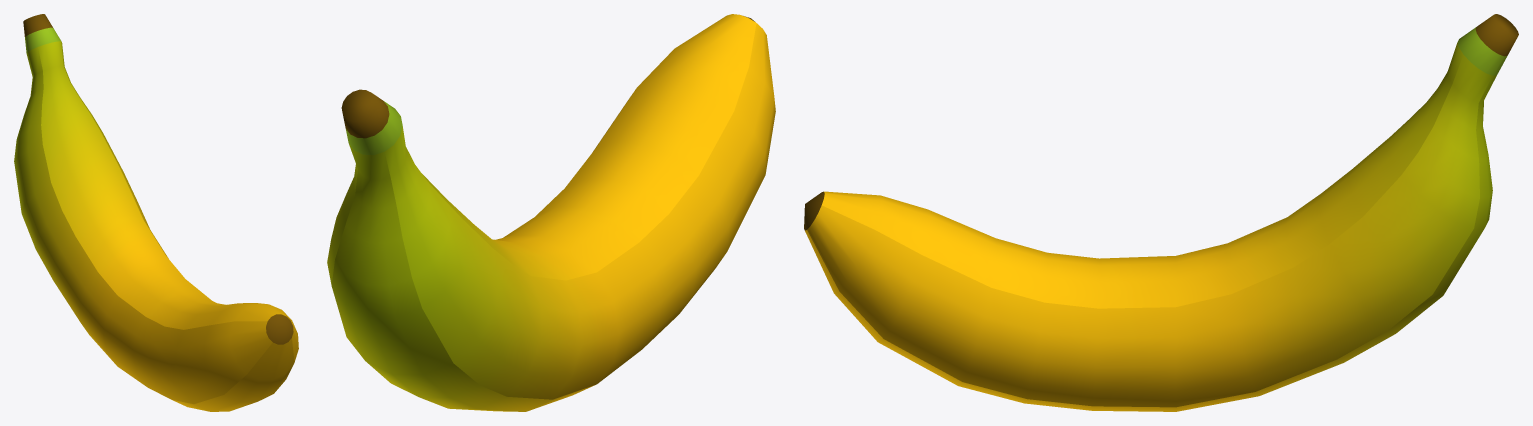
File: Banana.fbx
The picture shows the model from 3 angles, left to right: view 1: azimuth 30°, elevation 25°; view 2: azimuth 150°, elevation 25°; view 3: azimuth 270°, elevation 25°; orthographic projection. The views are drawn at different scales.
Parts seen in each view (by area): view 1: Banana; view 2: Banana; view 3: Banana.
Part boxes in pixels (<box>): Banana: <box>14,14,298,411</box>; Banana: <box>327,14,775,411</box>; Banana: <box>804,14,1518,411</box>.
Size of the model in its own units: 42.18 by 113 by 188.
